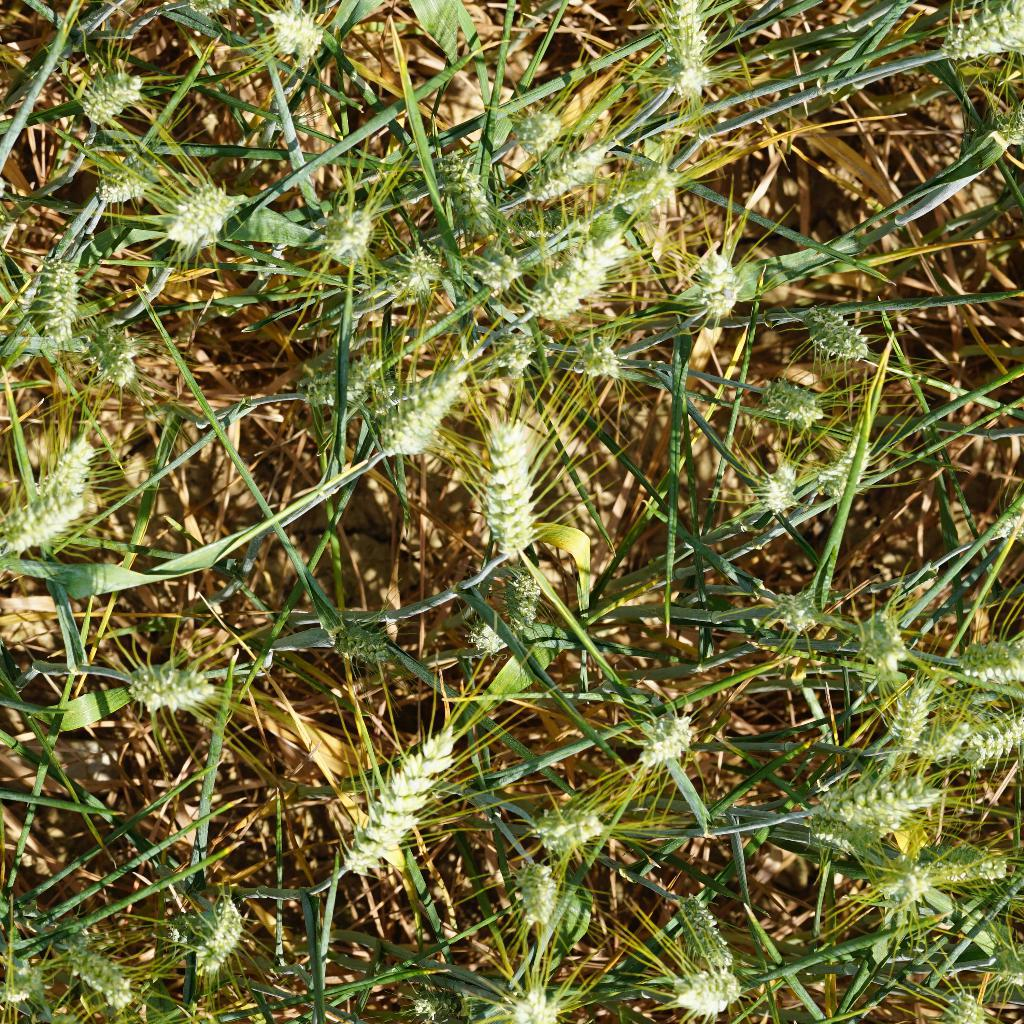0-0: (325, 712, 468, 879), (467, 414, 561, 548), (800, 766, 935, 834), (522, 235, 620, 325), (507, 119, 613, 201), (419, 138, 505, 234), (374, 370, 459, 463), (849, 593, 934, 681), (18, 242, 83, 357), (130, 656, 234, 724), (71, 309, 152, 395), (665, 242, 748, 324), (654, 0, 718, 105), (519, 789, 615, 859), (77, 51, 165, 126), (919, 832, 1012, 901), (815, 421, 892, 503), (181, 893, 254, 978), (0, 494, 109, 548), (23, 422, 112, 488), (800, 298, 879, 372), (63, 932, 133, 1015), (937, 0, 1022, 67), (666, 953, 747, 1019), (264, 0, 333, 77), (165, 174, 238, 246), (757, 572, 836, 636), (744, 441, 807, 520), (628, 706, 700, 773), (759, 370, 834, 434), (671, 884, 728, 967), (479, 322, 561, 378), (956, 707, 1024, 773), (620, 144, 692, 206), (314, 189, 373, 264), (369, 243, 441, 302), (82, 146, 152, 206), (301, 354, 363, 419), (322, 616, 398, 669), (950, 631, 1024, 685), (866, 854, 927, 919), (794, 812, 878, 859), (457, 611, 526, 664), (494, 565, 547, 632), (509, 862, 563, 925), (568, 328, 631, 378), (881, 680, 927, 746), (504, 104, 570, 148), (496, 982, 564, 1024), (405, 981, 470, 1023), (926, 985, 987, 1024), (0, 964, 48, 1008), (985, 98, 1024, 151), (478, 260, 524, 302)
